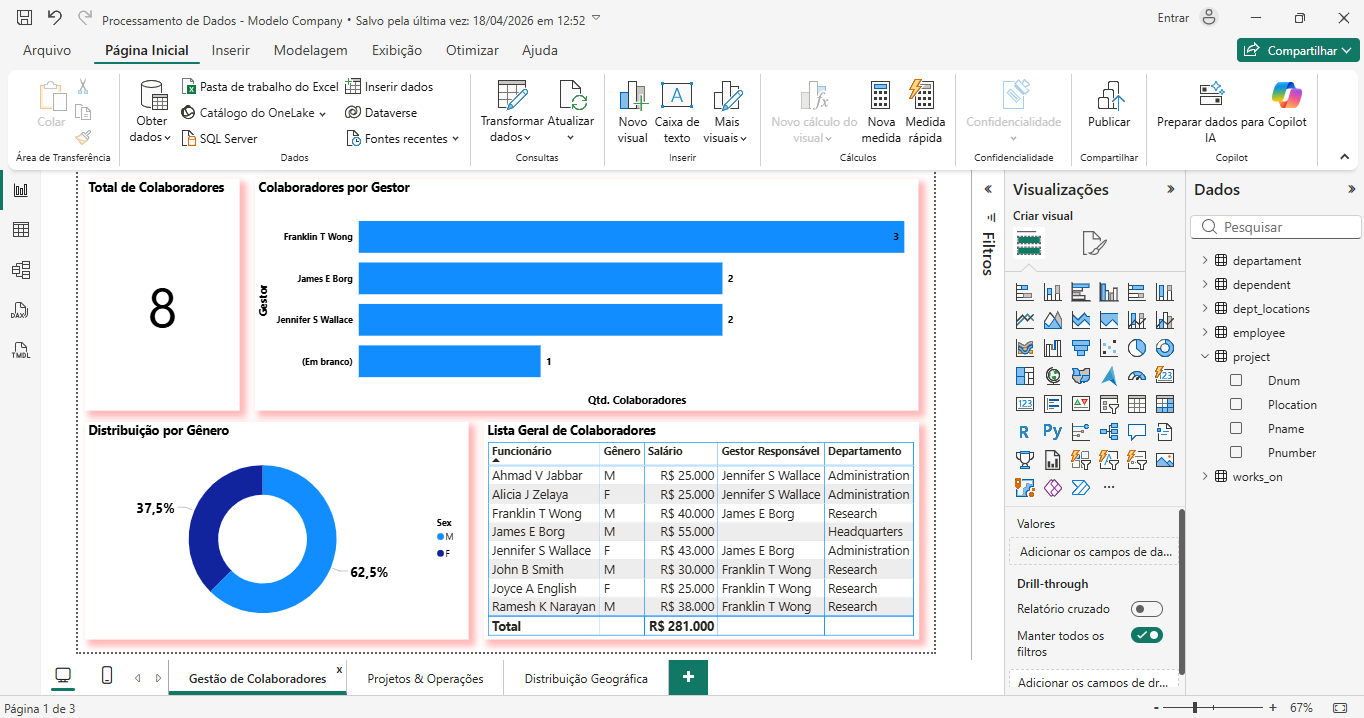

What the dashboard file says about the page in this screenshot:
{"tool":"powerbi","page":{"name":"Gestão de Colaboradores","canvas":[1280,720],"ordinal":0},"visuals":[{"type":"card","title":"Total de Colaboradores","fields":{"Values":["Count(employee.Ssn)"]},"box":[10.5,13.5,230.5,345.8],"z":0},{"type":"barChart","title":"Colaboradores por Gestor","fields":{"Category":["employee.Manager_Name"],"Y":["CountNonNull(employee.Ssn)"]},"box":[265,13.5,991.1,345.8],"z":1000},{"type":"donutChart","title":"Distribuição por Gênero","fields":{"Category":["employee.Sex"],"Y":["CountNonNull(employee.Ssn)"]},"box":[10.5,375.8,573.4,324.9],"z":2000},{"type":"tableEx","title":"Lista Geral de Colaboradores","fields":{"Values":["employee.Full_Name","employee.Sex","Sum(employee.Salary)","employee.Manager_Name","employee.Dname"]},"box":[606.3,375.8,649.7,324.9],"z":3000}]}

Visuals, with their boxes on the page's 1280x720 design canvas (x1, y1, x2, y2). These are canvas units, not pixel positions in the 1364x718 screenshot, which may show the page scaled, cropped or inside an application window:
"Total de Colaboradores" card: [left=10, top=14, right=241, bottom=359]
"Colaboradores por Gestor" barChart: [left=265, top=14, right=1256, bottom=359]
"Distribuição por Gênero" donutChart: [left=10, top=376, right=584, bottom=701]
"Lista Geral de Colaboradores" tableEx: [left=606, top=376, right=1256, bottom=701]
